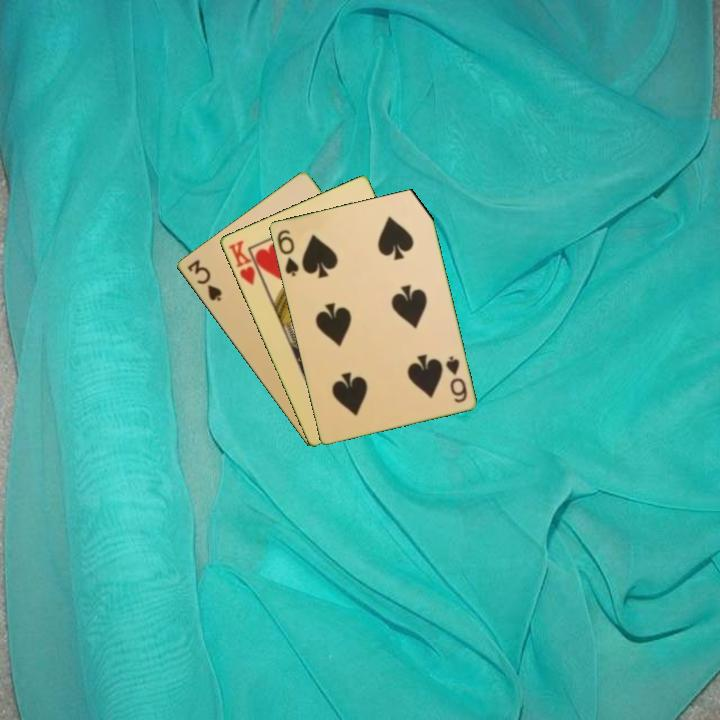3s: (183, 256, 225, 304)
6s: (273, 226, 301, 279), (442, 352, 470, 405)
Kh: (224, 237, 266, 288)
